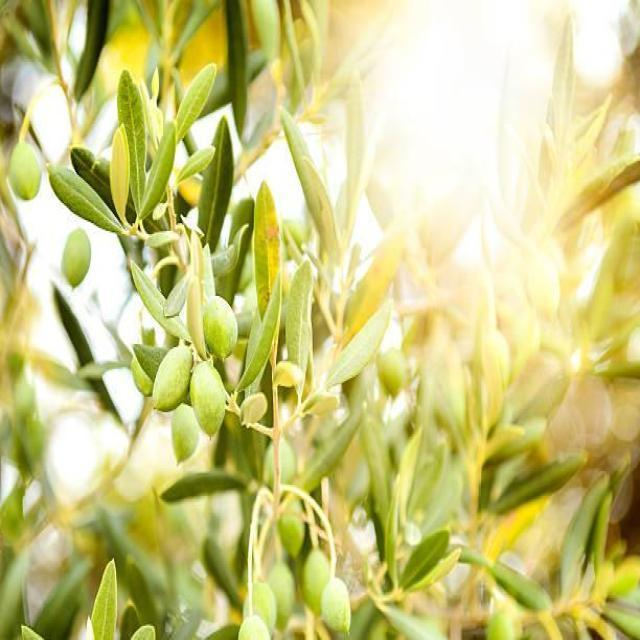OlivePeacockSpot: (254, 181, 279, 316)
